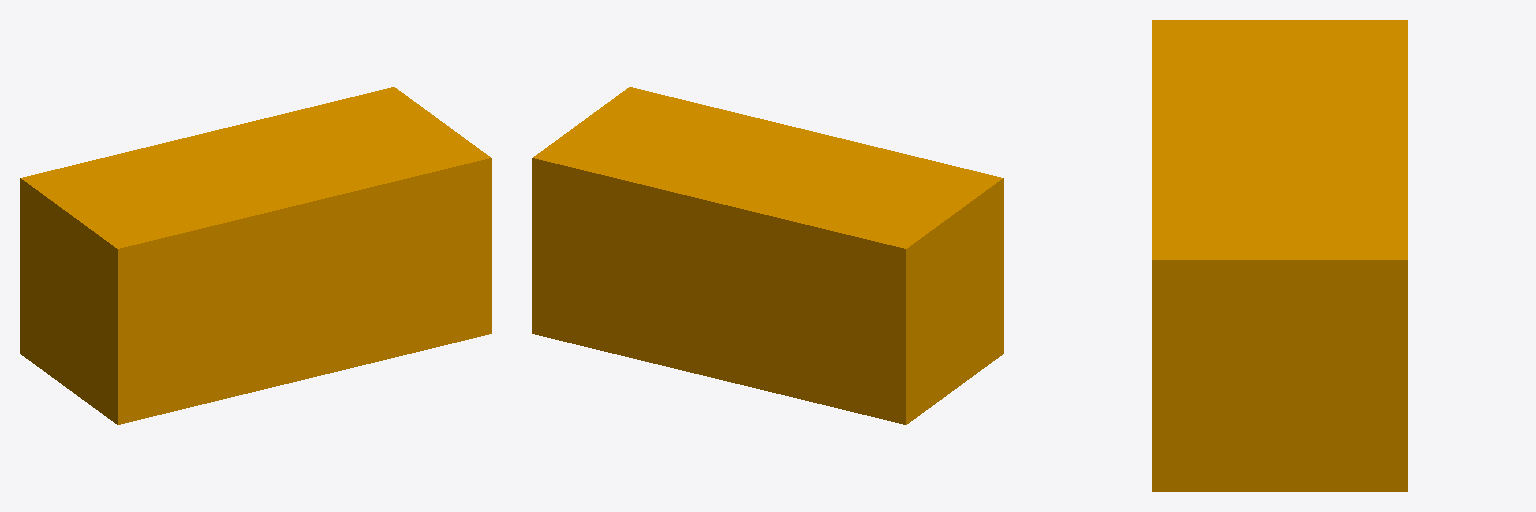
robot.urdf — object:
<?xml version="1.0"?>
<!-- Auto-generated by tools/gen_primitive_objects.py. kind=box dims=(0.1, 0.045, 0.045) -->
<robot name="object">
  <link name="object">
    <visual>
      <origin xyz="0 0 0"/>
      <geometry>
        <box size="0.100000 0.045000 0.045000"/>
      </geometry>
    </visual>
    <collision>
      <origin xyz="0 0 0"/>
      <geometry>
        <box size="0.100000 0.045000 0.045000"/>
      </geometry>
    </collision>
    <inertial>
      <mass value="0.040500"/>
      <inertia ixx="0.00001367" ixy="0.0" ixz="0.0" iyy="0.00004058" iyz="0.0" izz="0.00004058"/>
    </inertial>
  </link>
</robot>

--- What the picture shows (computed from the rendered views, not written in the file) ---
The picture shows the robot from 3 angles, left to right: view 1: azimuth 30°, elevation 25°; view 2: azimuth 150°, elevation 25°; view 3: azimuth 270°, elevation 25°; orthographic projection.
Robot: object — 1 links, 0 joints (none); root link object; default pose: every joint at zero.
Links seen in each view (by area): view 1: object; view 2: object; view 3: object.
Link boxes in pixels (<box>): object: <box>20,87,491,424</box>; object: <box>532,87,1003,424</box>; object: <box>1152,20,1407,491</box>.
Size in the robot's own frame: 0.1 by 0.045 by 0.045 metres.
Geometry: primitives only (box / cylinder / sphere), no mesh files.
